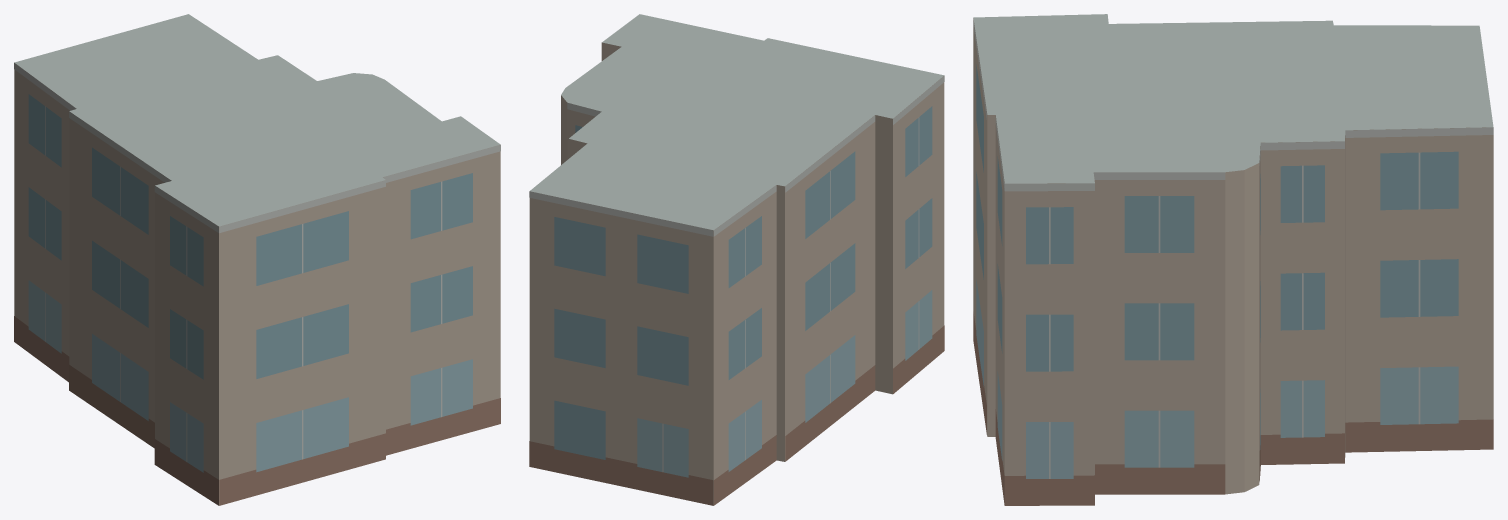
The model's file is survey-upis-32928857.glb.
The picture shows the model from 3 angles, left to right: view 1: azimuth 30°, elevation 25°; view 2: azimuth 150°, elevation 25°; view 3: azimuth 270°, elevation 25°; orthographic projection. The views are drawn at different scales.
Parts seen in each view (by area): view 1: survey-upis-32928857.tmp; view 2: survey-upis-32928857.tmp; view 3: survey-upis-32928857.tmp.
Part boxes in pixels (left/top/right/bottom): survey-upis-32928857.tmp: left=14, top=14, right=500, bottom=505; survey-upis-32928857.tmp: left=529, top=14, right=944, bottom=505; survey-upis-32928857.tmp: left=973, top=14, right=1493, bottom=505.
Bounding box in the file's own units: 11.53 × 10.2 × 14.93.
